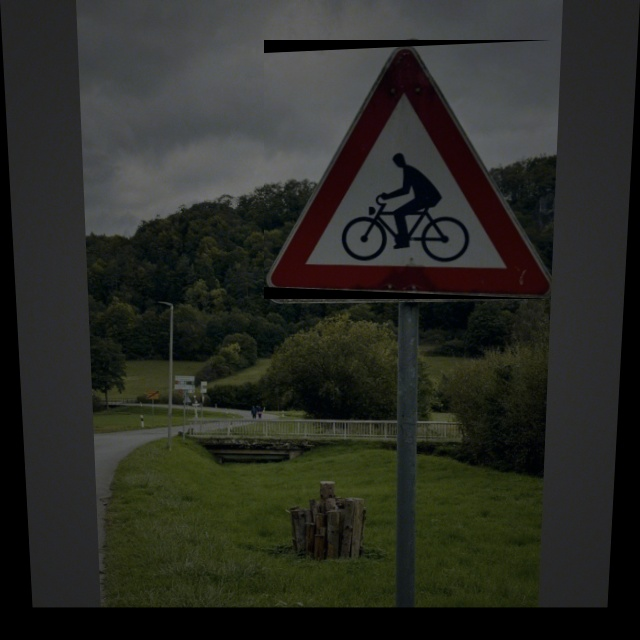Cycle_Crossing: (264, 40, 552, 299)
